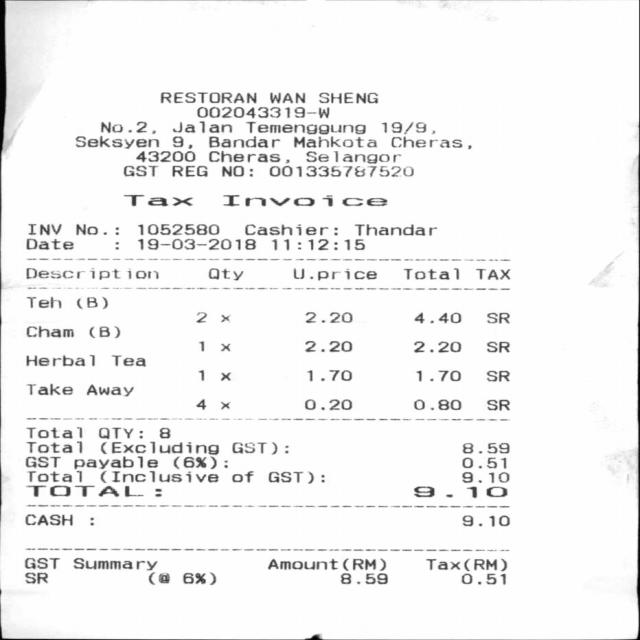text: (222, 194, 386, 206), (25, 267, 160, 281), (269, 164, 412, 177), (100, 441, 218, 455), (266, 557, 384, 571), (196, 106, 328, 118), (243, 121, 364, 134), (100, 470, 217, 483), (26, 485, 161, 496), (136, 238, 254, 249), (306, 150, 400, 163), (72, 455, 156, 469), (271, 238, 364, 250), (413, 486, 506, 498), (391, 135, 470, 149), (245, 223, 336, 235), (72, 557, 156, 570), (424, 558, 506, 571), (207, 150, 288, 163), (160, 92, 255, 103), (290, 267, 377, 279), (73, 136, 158, 148), (292, 136, 376, 148), (136, 223, 218, 235), (353, 223, 435, 235), (208, 136, 279, 148), (123, 194, 191, 206), (26, 354, 93, 366), (173, 455, 227, 469), (26, 440, 81, 453), (100, 121, 154, 134), (172, 120, 230, 132), (381, 121, 434, 134), (26, 426, 82, 438), (231, 442, 287, 454), (268, 471, 323, 483), (318, 92, 377, 103), (136, 151, 194, 162), (403, 268, 458, 279), (86, 383, 132, 396), (27, 471, 80, 482), (460, 471, 508, 483), (304, 311, 351, 323), (304, 340, 351, 352), (413, 398, 460, 410), (24, 514, 71, 526), (340, 572, 387, 584), (26, 325, 72, 337), (462, 515, 508, 527), (460, 456, 505, 468), (306, 369, 350, 381), (27, 383, 71, 395), (98, 426, 135, 440), (413, 312, 460, 323), (413, 341, 460, 352), (304, 399, 351, 410), (26, 238, 72, 249), (462, 442, 508, 453), (459, 573, 505, 584), (206, 266, 242, 280), (415, 370, 459, 381), (171, 164, 206, 177), (25, 296, 62, 308), (474, 268, 509, 280), (23, 557, 58, 569), (110, 355, 144, 367), (27, 223, 60, 235), (182, 572, 215, 584), (269, 92, 304, 103), (122, 165, 156, 176), (25, 456, 59, 467), (76, 296, 107, 308), (88, 326, 119, 338), (221, 165, 251, 176), (74, 223, 98, 236), (23, 572, 47, 584), (486, 399, 508, 411), (486, 312, 508, 323), (486, 341, 508, 352), (486, 370, 508, 381), (148, 572, 168, 584), (231, 471, 252, 482), (172, 136, 191, 148), (192, 398, 205, 410), (217, 342, 231, 353), (159, 426, 169, 438), (196, 312, 205, 323), (220, 372, 231, 381), (197, 369, 205, 381), (198, 341, 206, 352), (219, 314, 228, 322), (219, 401, 228, 409)
